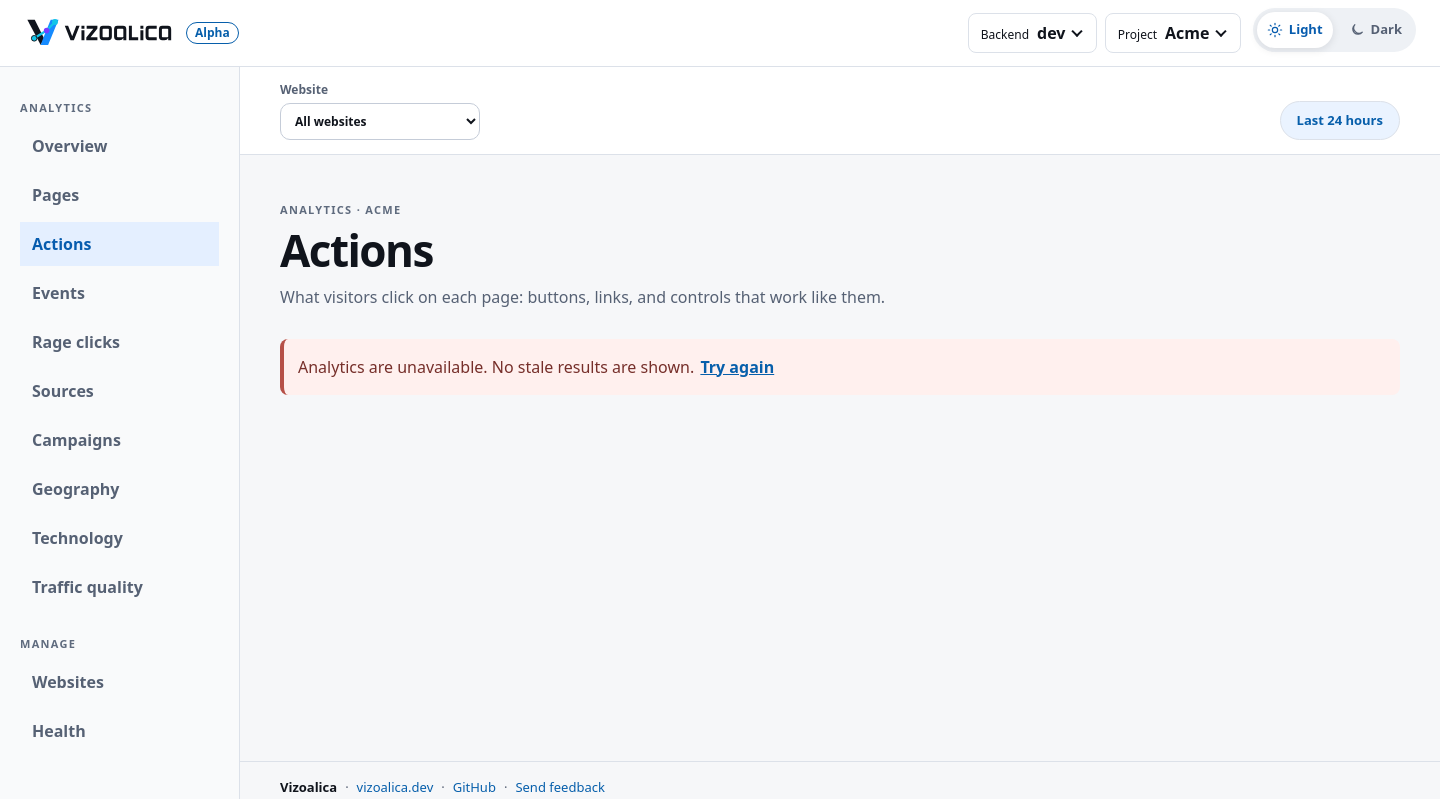
Scenario: Actions page › shows an error with a retry, and loads again when retried
expect the message shows "Analytics are unavailable": met, box x1=298 y1=356 x2=694 y2=378
Click the button "Try again". click: click(737, 367)
box: x1=698 y1=351 x2=776 y2=383
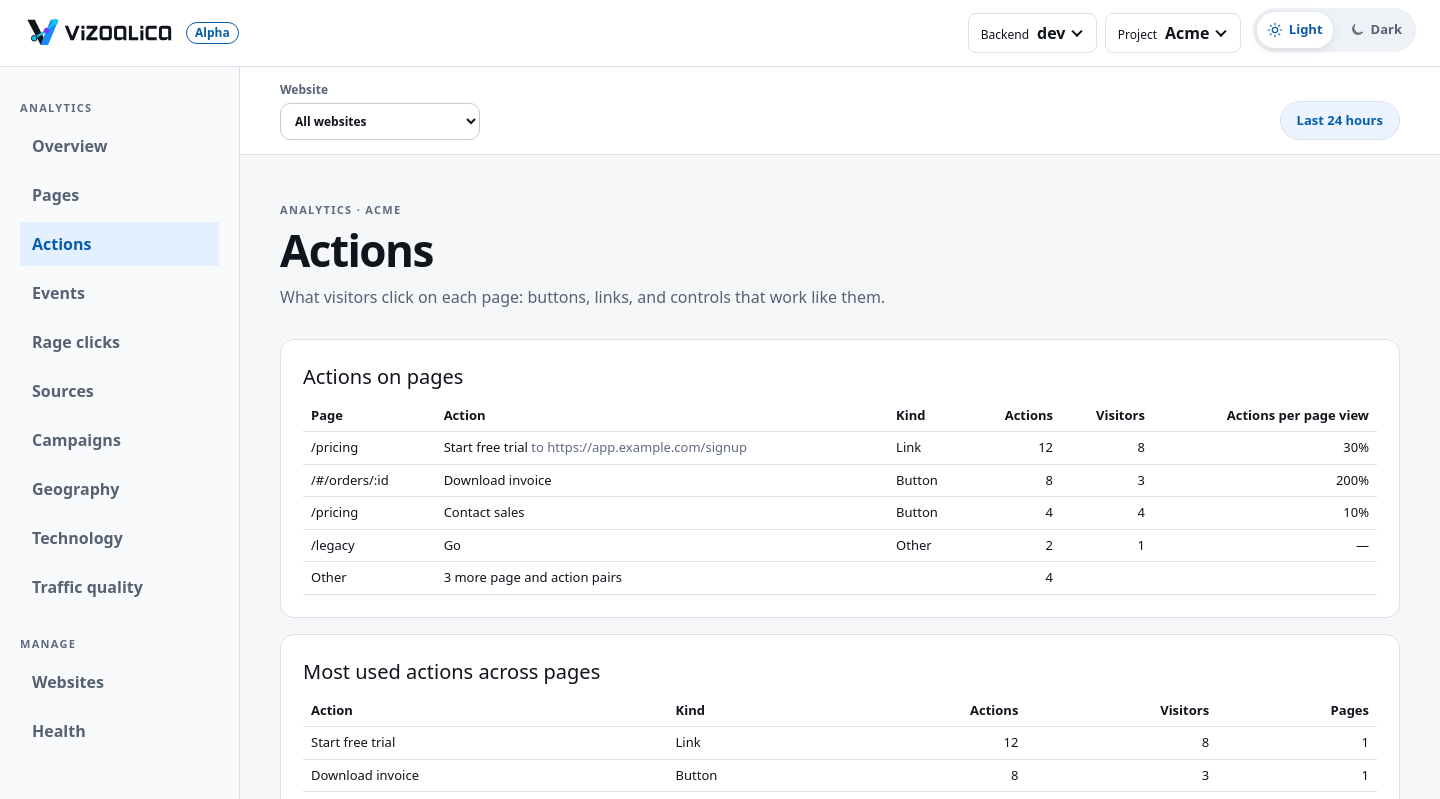
expect the element named "Actions on pages table" is shown: met, box x1=303 y1=400 x2=1377 y2=595
